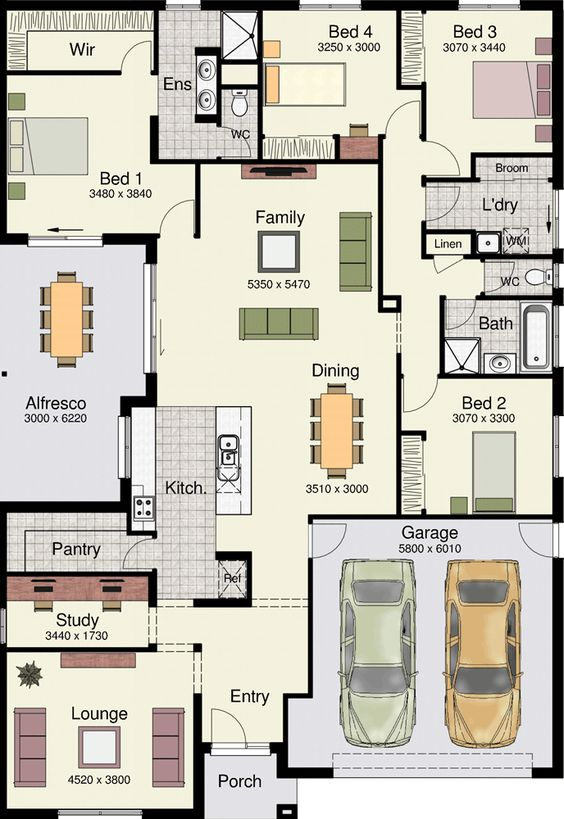door: (207, 703, 248, 743), (426, 137, 465, 176), (425, 183, 464, 222), (158, 195, 197, 234), (314, 519, 350, 561), (518, 519, 554, 561), (402, 377, 439, 414), (217, 123, 254, 158), (384, 97, 421, 132), (119, 535, 154, 571), (443, 299, 481, 332), (484, 259, 522, 292), (117, 37, 154, 69)
window: (143, 262, 157, 374), (28, 232, 102, 249), (57, 807, 143, 819), (117, 414, 132, 479), (551, 415, 564, 476), (550, 188, 562, 249), (552, 305, 564, 366), (456, 1, 520, 12), (297, 1, 361, 11), (166, 1, 201, 13), (552, 263, 563, 289)
